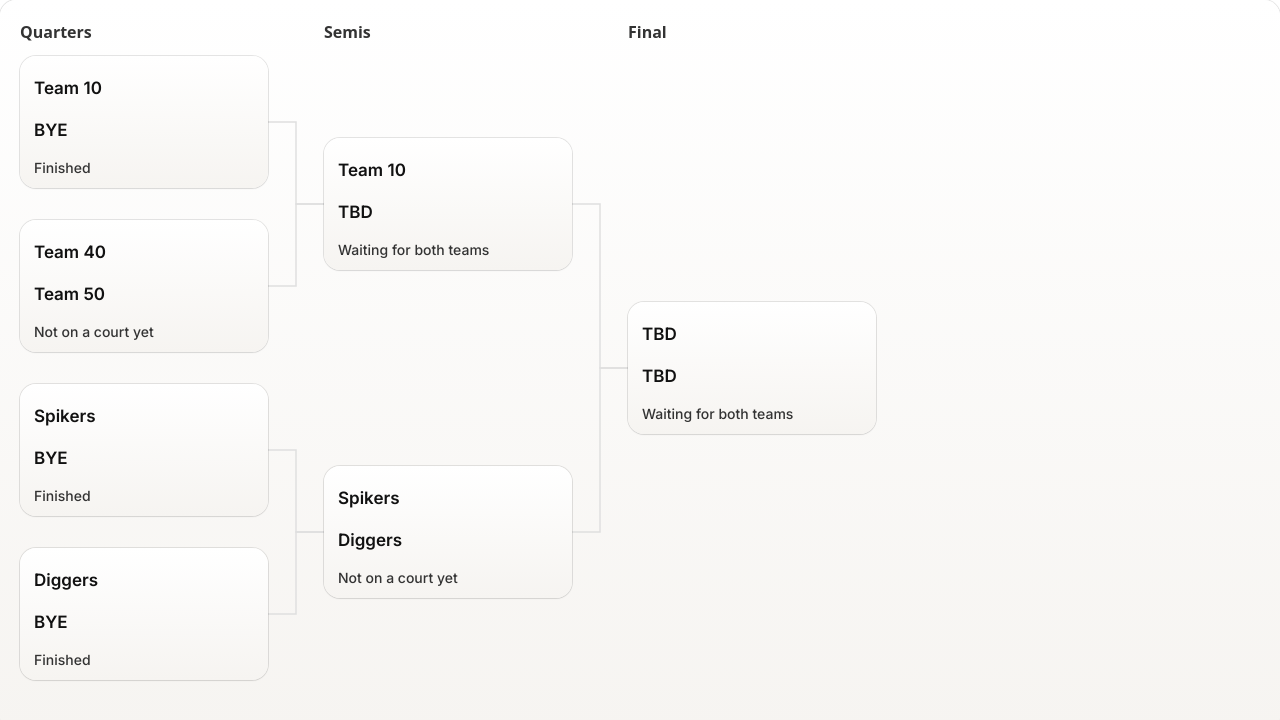
Test case: opening a match shows its tools, only once both teams are known
The width and height of the screenshot is (1280, 720).
Click the button with aria-label "Semis · match 2: Spikers vs Diggers".
click(448, 519)  # box [328, 470, 568, 568]
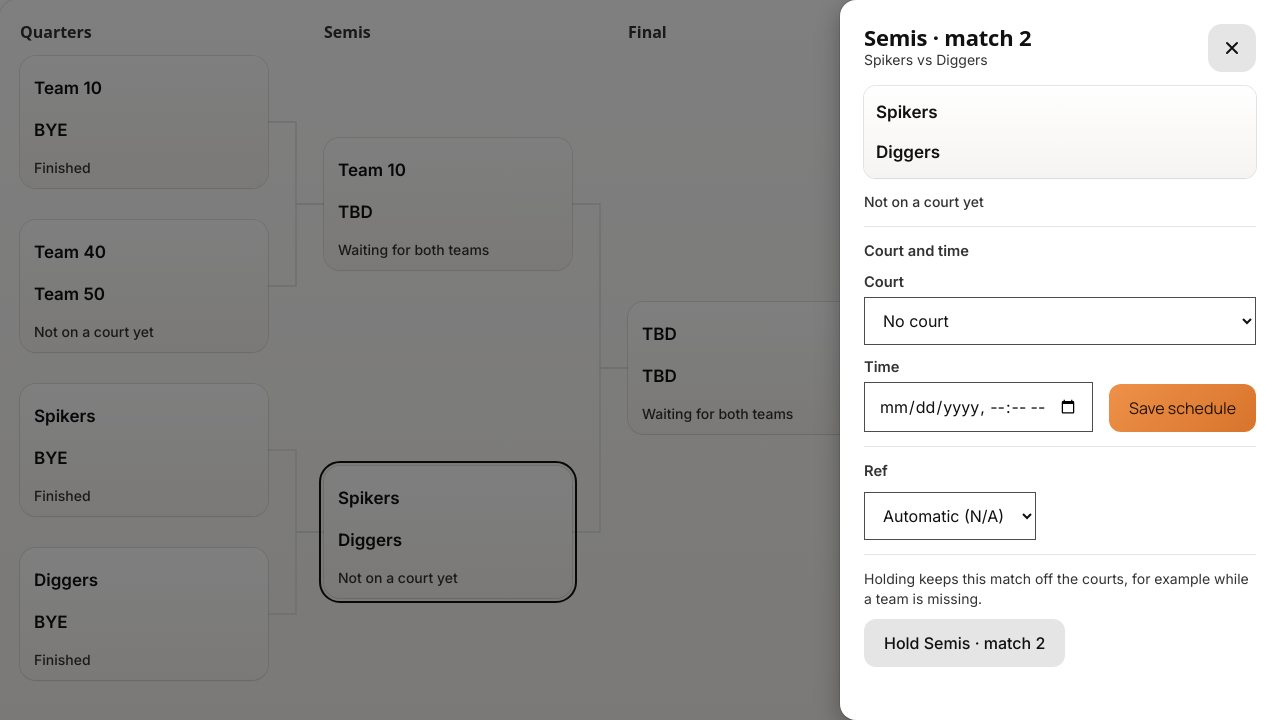
Expected: the button "Save schedule" is shown, [1109, 384, 1256, 432]
Expected: the button "Hold Semis · match 2" is shown, [864, 619, 1065, 667]
Click the button named "Close".
click(1232, 48)  # box [1208, 24, 1256, 72]
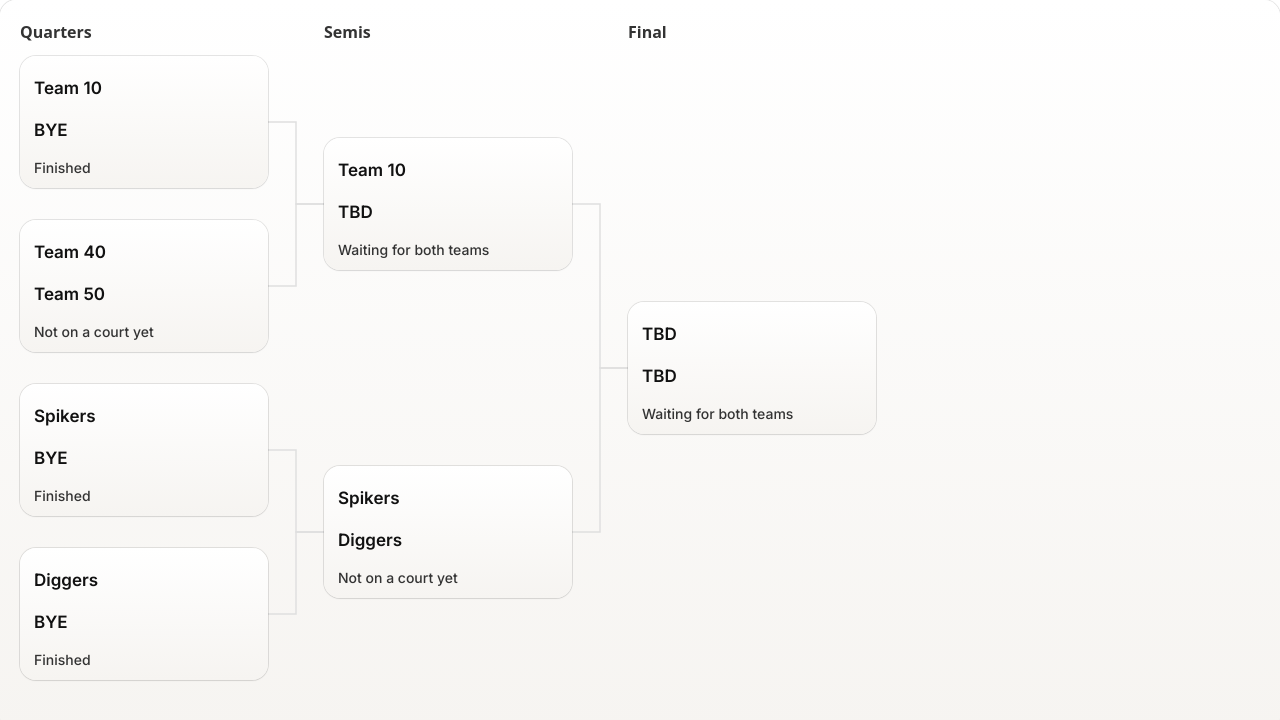
Expected: the dialog is gone
Click the button with aria-label "Semis · match 1: Team 10 vs TBD".
click(448, 191)  # box [328, 142, 568, 240]
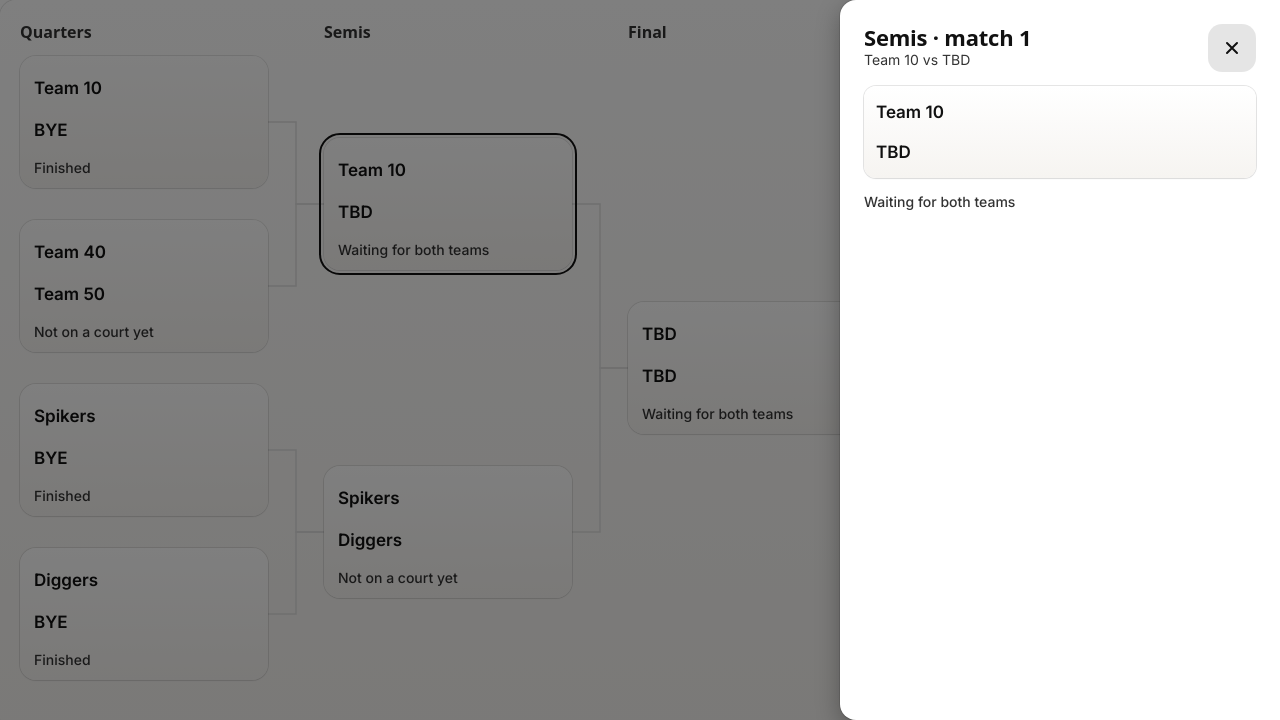
Expected: the button "Save schedule" is not shown
Expected: the dialog "Semis · match 1" shows "Waiting for both teams", [864, 193, 1015, 210]
